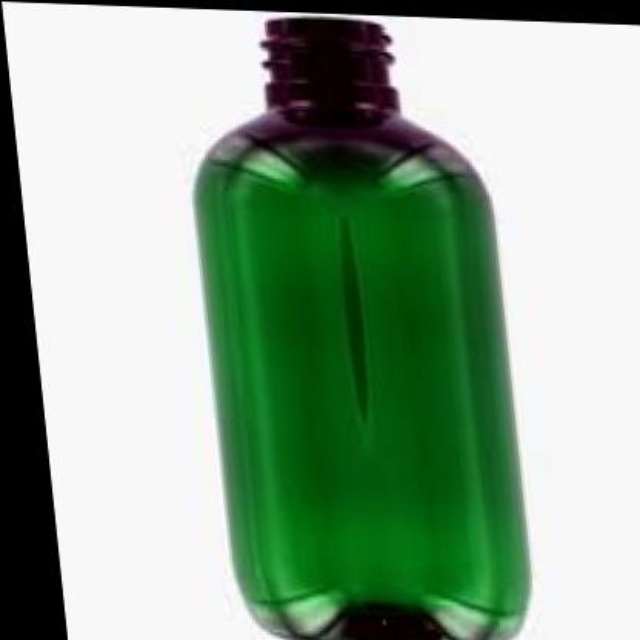trash: (195, 18, 528, 638)
